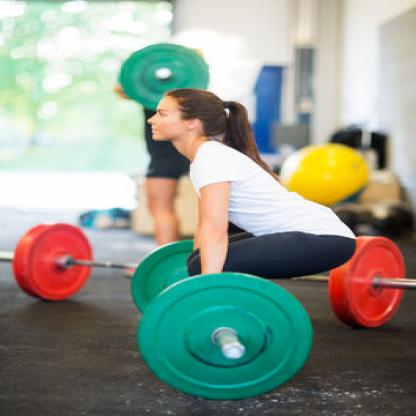Barbell: (132, 268, 320, 405)
